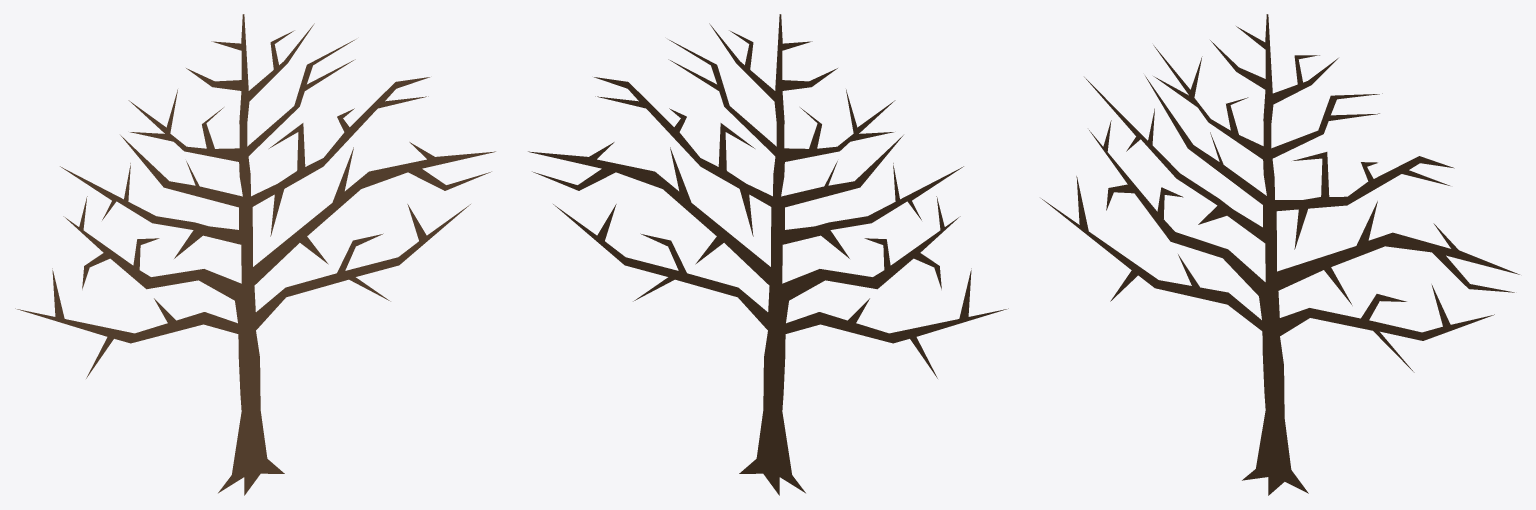
Rendered from OakTree_02.fbx.
3 views of the same model, side by side, from view 1: azimuth 30°, elevation 25°; view 2: azimuth 150°, elevation 25°; view 3: azimuth 330°, elevation 25° (orthographic).
Visible parts, largest first — view 1: planarTrimmedSurface2; view 2: planarTrimmedSurface2; view 3: planarTrimmedSurface2.
Part boxes in pixels (x1,y1,x2,y2): planarTrimmedSurface2: [15, 14, 495, 495]; planarTrimmedSurface2: [528, 14, 1008, 495]; planarTrimmedSurface2: [1041, 14, 1519, 495].
Bounding box in the file's own units: 16.29 × 15.52 × 0.
Materials: 1 (1 with a texture image).
